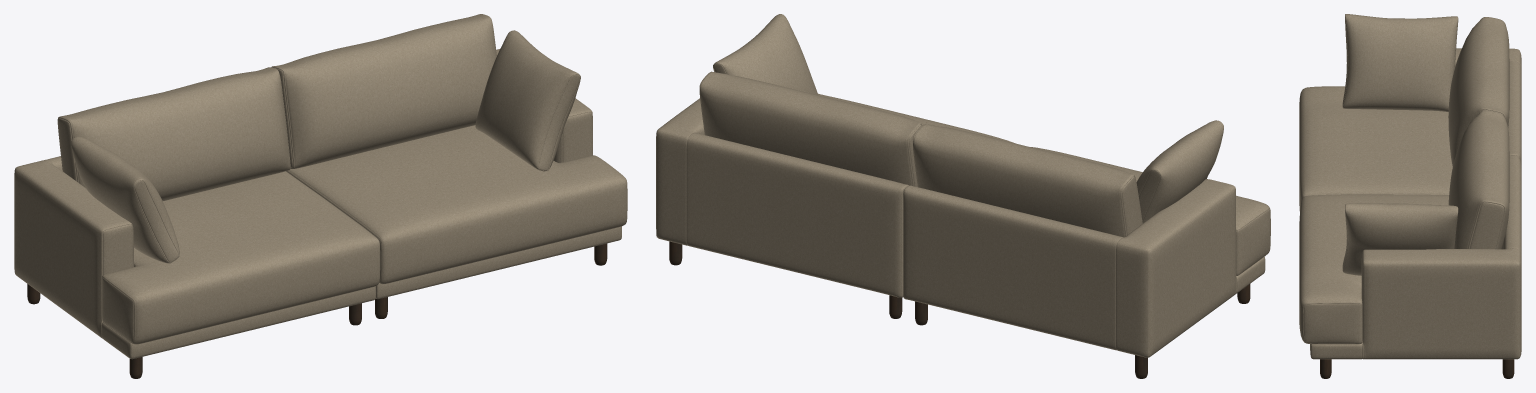
The model's file is uppakra_sofa_moduowa_3_osobowa_09614047.glb.
3 views of the same model, side by side, from view 1: azimuth 30°, elevation 25°; view 2: azimuth 150°, elevation 25°; view 3: azimuth 270°, elevation 25° (orthographic). The views are drawn at different scales.
Visible parts, largest first — view 1: uppakra_sofa_moduowa_3_osobowa_09614047; view 2: uppakra_sofa_moduowa_3_osobowa_09614047; view 3: uppakra_sofa_moduowa_3_osobowa_09614047.
Boxes of the visible parts, x1=… form: uppakra_sofa_moduowa_3_osobowa_09614047: x1=14, y1=14, x2=627, y2=378; uppakra_sofa_moduowa_3_osobowa_09614047: x1=656, y1=14, x2=1270, y2=378; uppakra_sofa_moduowa_3_osobowa_09614047: x1=1299, y1=14, x2=1521, y2=378.
Bounding box in the file's own units: 2.52 × 0.9019 × 1.09.
Materials: 2 (2 with a texture image).
